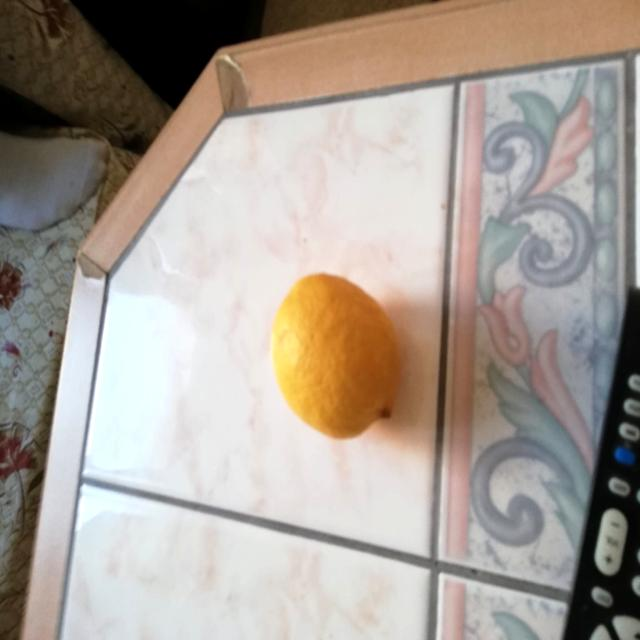lemon: (266, 268, 408, 446)
